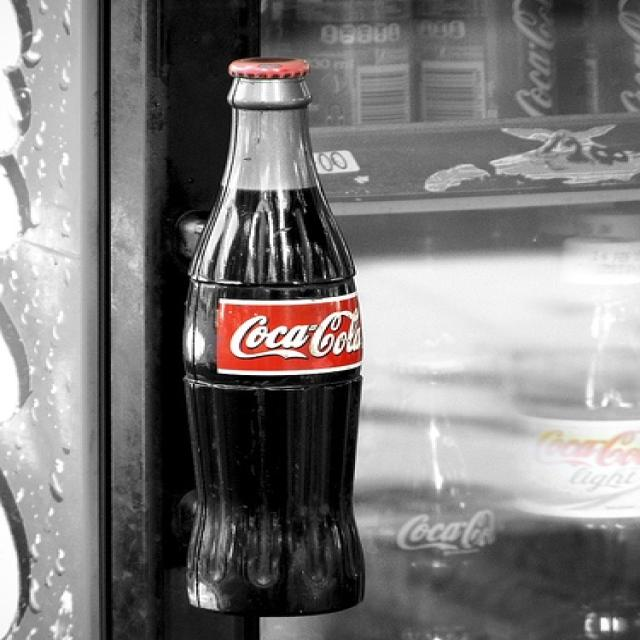cocacola: (219, 308, 375, 370)
